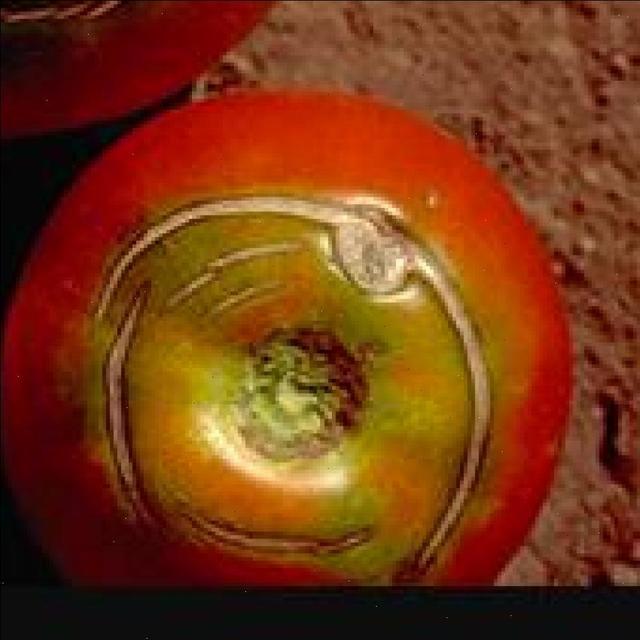Cracking Fruit: (45, 57, 278, 344)
